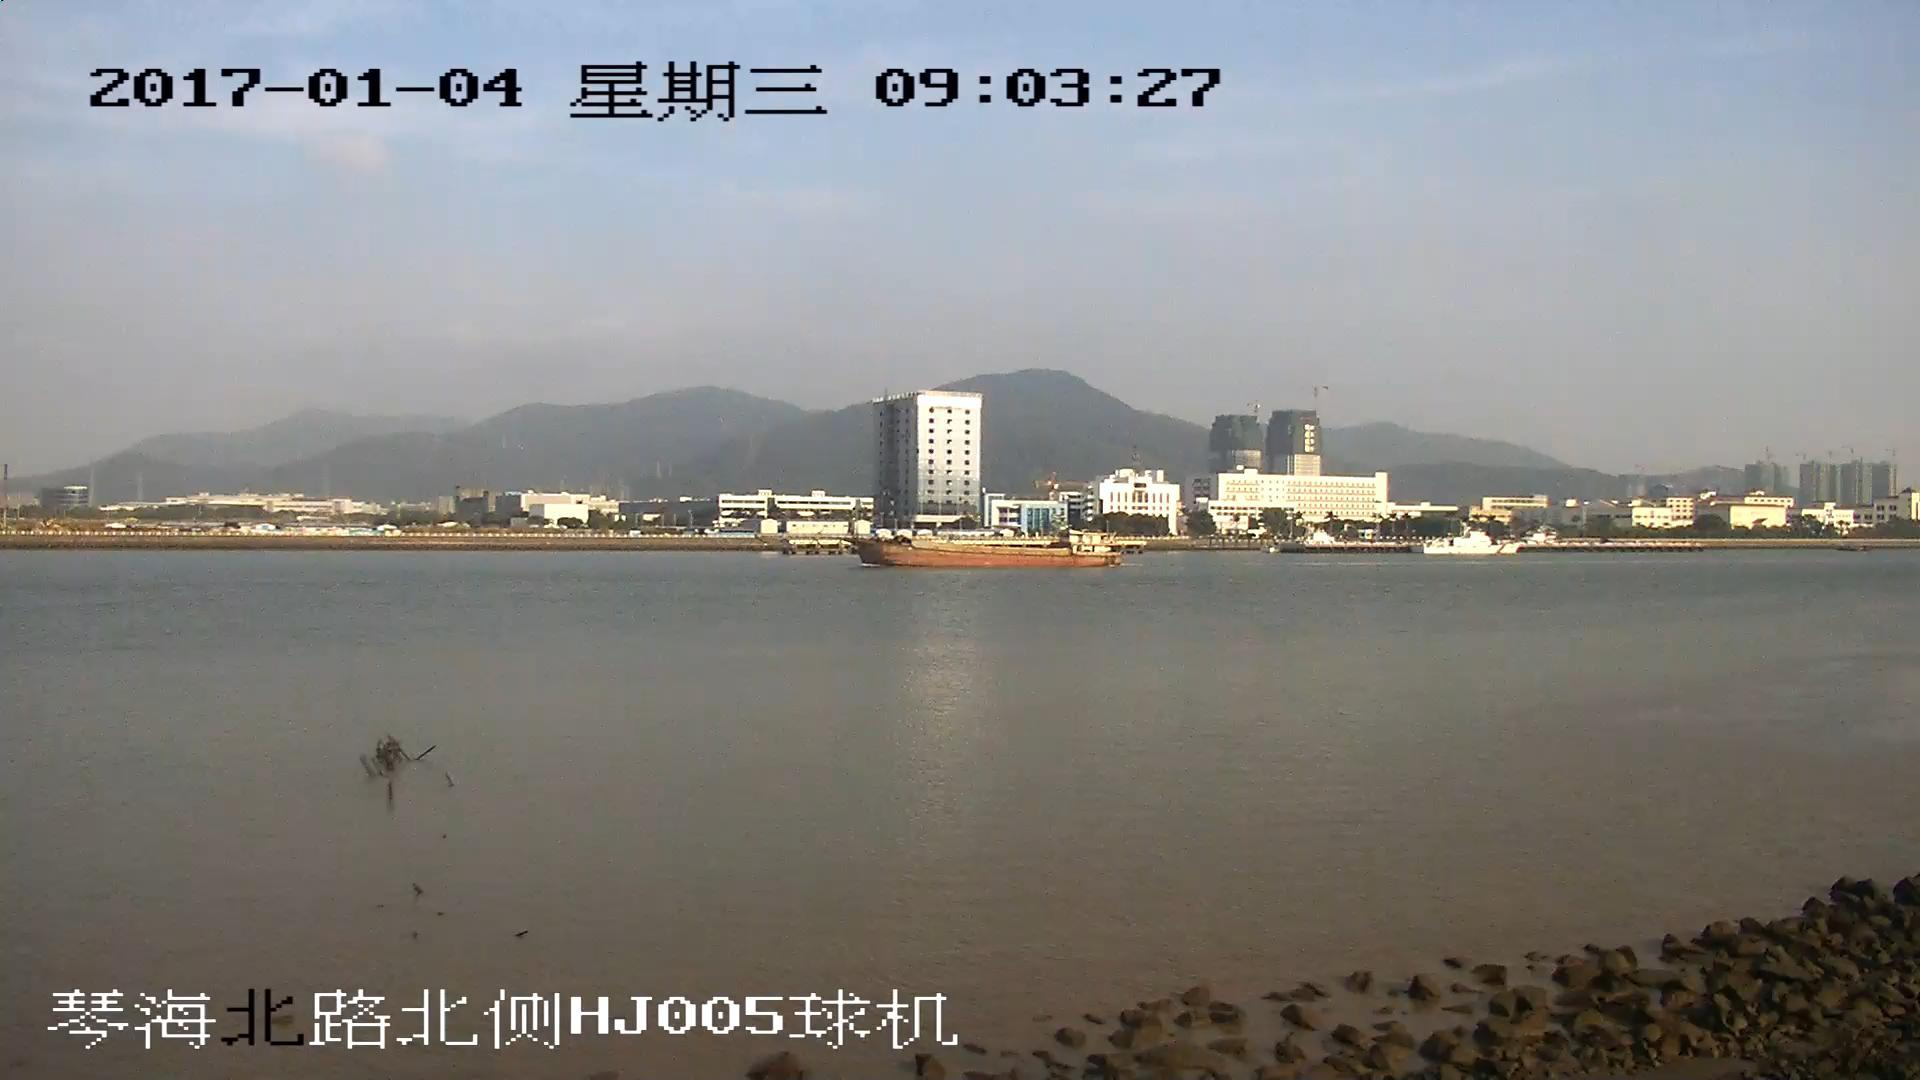Ship: (860, 524, 1122, 571)
